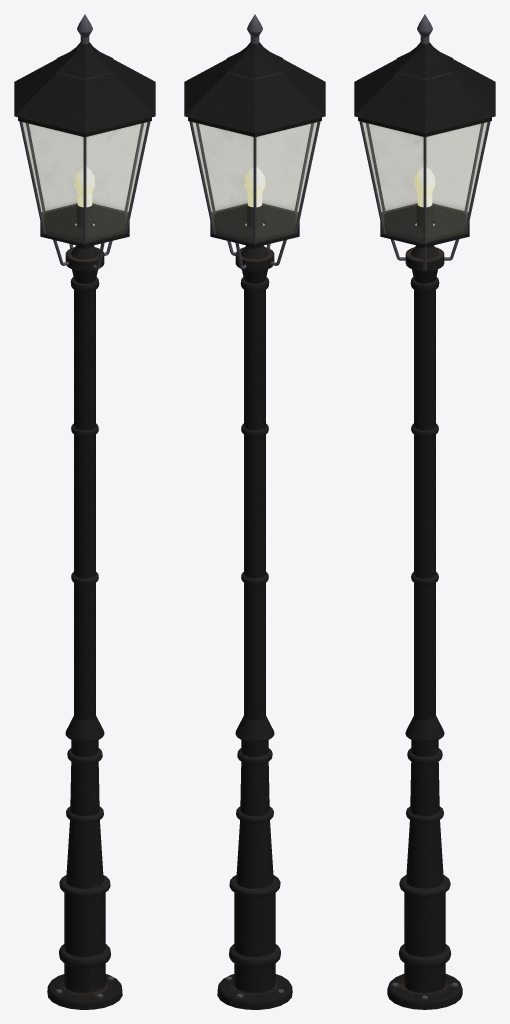
The model's file is lamp.glb.
3 renders of one model, left to right at view 1: azimuth 30°, elevation 25°; view 2: azimuth 150°, elevation 25°; view 3: azimuth 270°, elevation 25°, orthographic.
Visible parts, largest first — view 1: Stamm_low, Deckel_low, pPlane5, pPlane4, pPlane2, pPlane7, ZwischenPlatte_Low, object 21, StangeOben4_mid, StangeOben5_mid, StangeOben3_mid; view 2: Stamm_low, Deckel_low, pPlane2, pPlane3, pPlane5, pPlane6, ZwischenPlatte_Low, object 21, StangeOben2_mid, StangeOben1_mid, StangeOben3_mid; view 3: Stamm_low, Deckel_low, pPlane6, pPlane7, pPlane4, pPlane3, ZwischenPlatte_Low, object 21, StangeOben_mid, StangeOben5_mid, StangeOben1_mid.
Boxes of the visible parts, bbox=[...] form: Stamm_low: bbox=[47, 203, 122, 1009]; Deckel_low: bbox=[14, 42, 155, 137]; pPlane5: bbox=[86, 122, 147, 242]; pPlane4: bbox=[22, 122, 83, 242]; pPlane2: bbox=[29, 124, 83, 212]; pPlane7: bbox=[87, 124, 140, 212]; ZwischenPlatte_Low: bbox=[40, 203, 129, 247]; object 21: bbox=[74, 167, 95, 207]; StangeOben4_mid: bbox=[83, 137, 86, 243]; StangeOben5_mid: bbox=[124, 121, 150, 233]; StangeOben3_mid: bbox=[19, 121, 45, 233]; Stamm_low: bbox=[217, 203, 292, 1009]; Deckel_low: bbox=[184, 42, 325, 137]; pPlane2: bbox=[192, 122, 253, 242]; pPlane3: bbox=[256, 122, 317, 242]; pPlane5: bbox=[256, 124, 310, 212]; pPlane6: bbox=[199, 124, 252, 212]; ZwischenPlatte_Low: bbox=[210, 203, 299, 247]; object 21: bbox=[244, 167, 265, 207]; StangeOben2_mid: bbox=[253, 137, 256, 243]; StangeOben1_mid: bbox=[189, 121, 215, 233]; StangeOben3_mid: bbox=[294, 121, 320, 233]; Stamm_low: bbox=[387, 203, 462, 1009]; Deckel_low: bbox=[354, 42, 495, 136]; pPlane6: bbox=[362, 122, 423, 242]; pPlane7: bbox=[426, 122, 487, 242]; pPlane4: bbox=[369, 124, 423, 212]; pPlane3: bbox=[426, 124, 480, 212]; ZwischenPlatte_Low: bbox=[380, 203, 469, 247]; object 21: bbox=[414, 167, 435, 207]; StangeOben_mid: bbox=[423, 137, 426, 243]; StangeOben5_mid: bbox=[359, 121, 385, 233]; StangeOben1_mid: bbox=[464, 121, 490, 233].
Bounding box in the file's own units: 0.3018 × 2 × 0.2613.
Materials: 1 (1 with a texture image).
